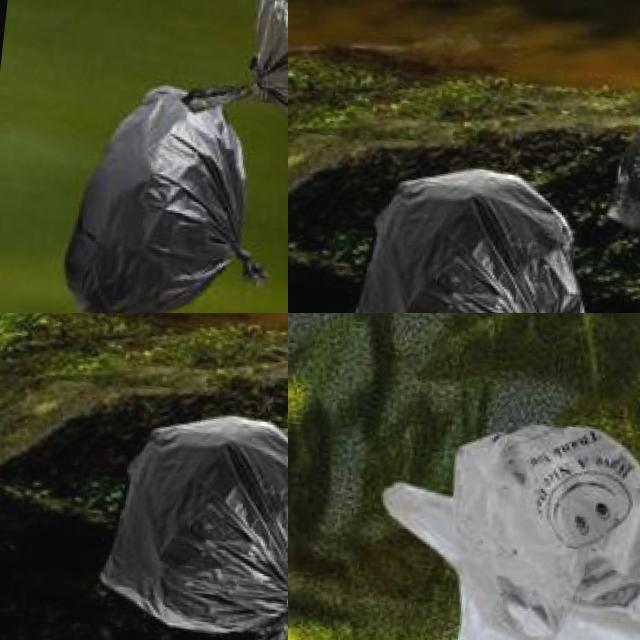waste: (307, 475, 640, 640), (65, 71, 285, 313), (343, 145, 633, 313), (96, 392, 288, 640), (444, 419, 640, 640)
